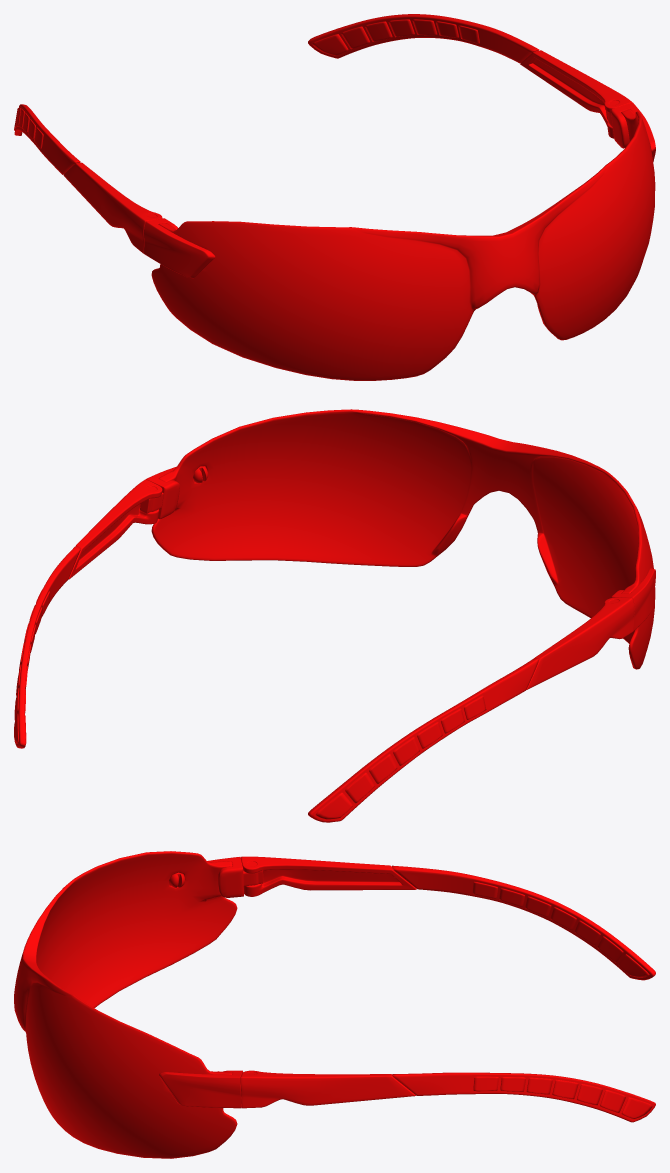
File: gafas.fbx
The picture shows the model from 3 angles, top to bottom: view 1: azimuth 30°, elevation 25°; view 2: azimuth 150°, elevation 25°; view 3: azimuth 270°, elevation 25°; orthographic projection. The views are drawn at different scales.
Parts seen in each view (by area): view 1: Object007; view 2: Object007; view 3: Object007.
Part boxes in pixels (box(x1,y1,x2,y2)): Object007: box(14, 14, 655, 380); Object007: box(14, 409, 655, 822); Object007: box(14, 851, 655, 1158).
Bounding box in the file's own units: 649 × 195 × 791.
